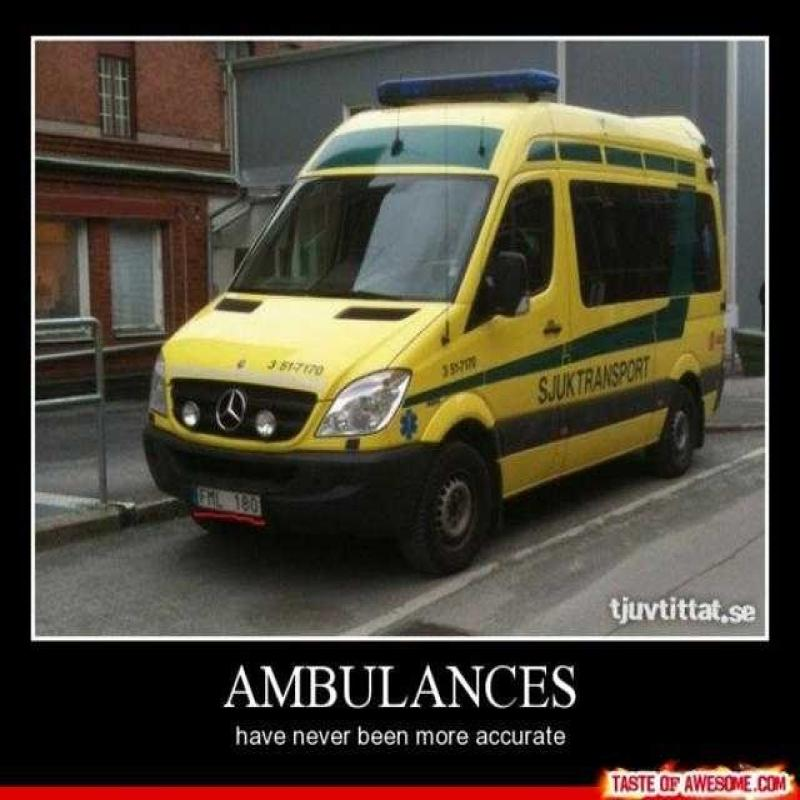AmbulanceSiren: (374, 50, 570, 124)
